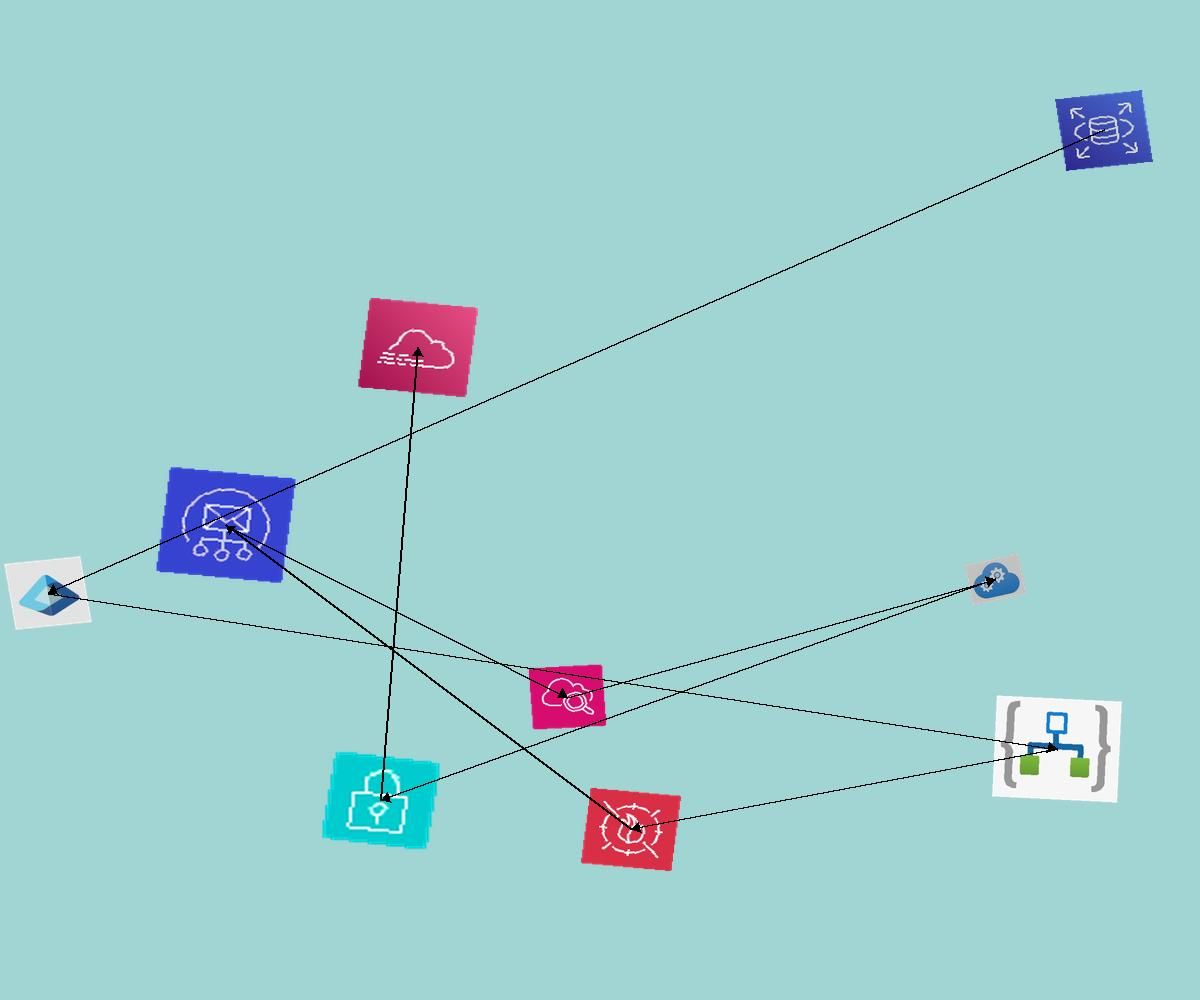AWS-CloudTrail: (357, 297, 479, 398)
AWS-CloudWatch: (528, 664, 607, 730)
AWS-Private-subnet: (320, 750, 442, 851)
AWS-RDS: (1055, 90, 1153, 171)
AWS-Simple-Email-Service: (155, 466, 297, 584)
AWS-WAF: (580, 787, 682, 872)
Azure_cloud_services: (964, 553, 1027, 606)
Azure_integration-204-Logic-Apps: (992, 695, 1122, 803)
Azure_microsoft_entra: (4, 556, 92, 630)
